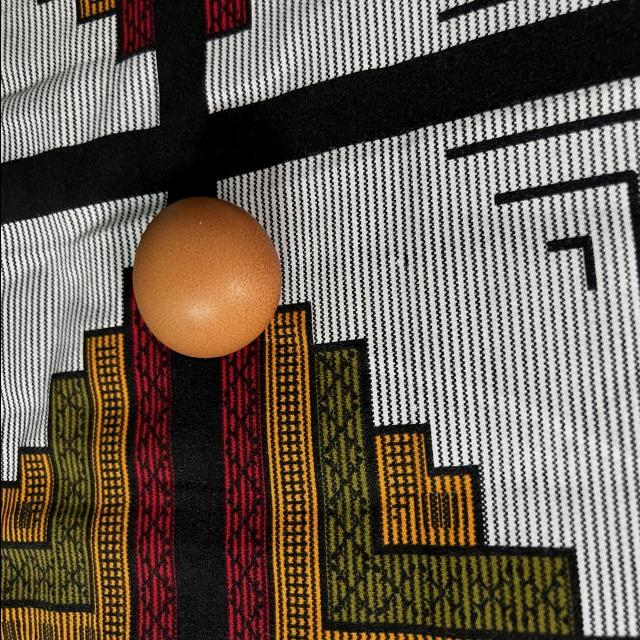egg: (127, 192, 289, 364)
